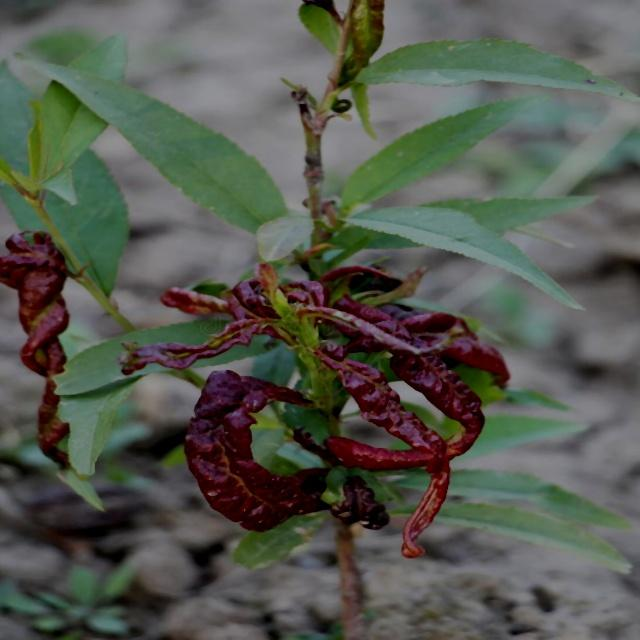leaf_curl: (162, 260, 504, 569), (0, 194, 139, 536)
